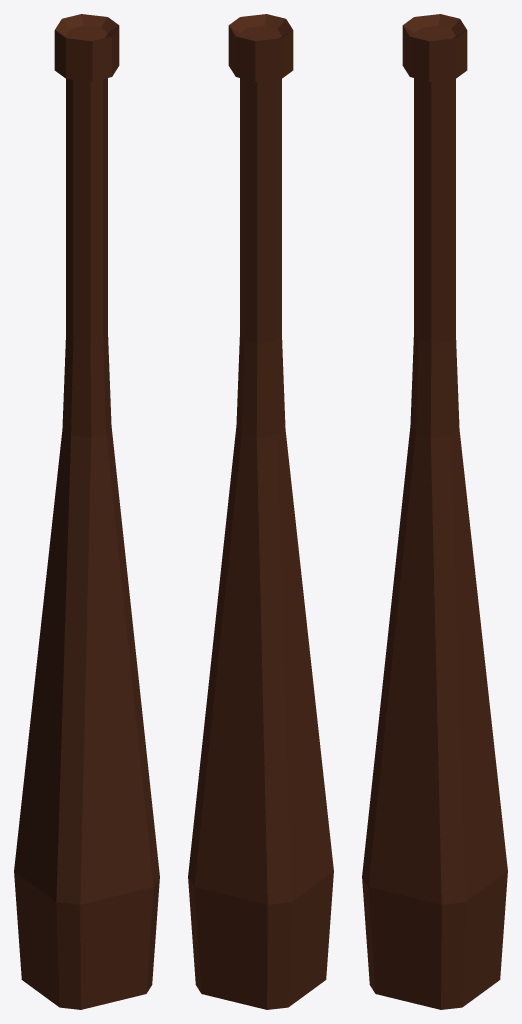
Rendered from low_BAT.fbx.
3 views of the same model, side by side, from view 1: azimuth 30°, elevation 25°; view 2: azimuth 150°, elevation 25°; view 3: azimuth 330°, elevation 25° (orthographic).
Parts seen in each view (by area): view 1: Cube.003; view 2: Cube.003; view 3: Cube.003.
Part boxes in pixels (x1,y1,x2,y2): Cube.003: (14,14,159,1009); Cube.003: (188,14,333,1009); Cube.003: (362,14,507,1009).
Bounding box in the file's own units: 106 × 934 × 106.
